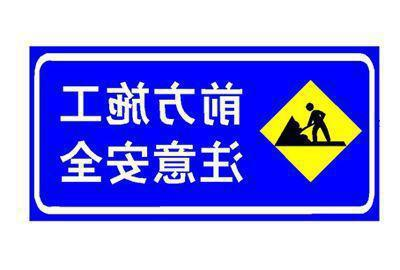sign: (33, 49, 376, 215)
